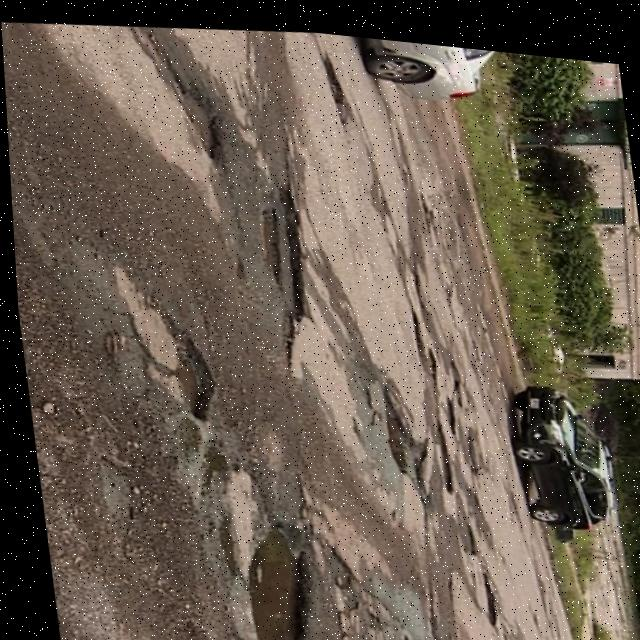Pothole: (184, 434, 345, 640), (101, 256, 221, 429), (237, 176, 312, 326), (179, 83, 225, 160), (314, 47, 354, 120), (394, 305, 433, 368), (375, 396, 410, 460), (428, 421, 454, 482), (407, 185, 438, 230), (423, 377, 455, 416), (469, 567, 494, 613), (454, 514, 475, 555), (386, 620, 413, 640), (441, 351, 463, 375)
